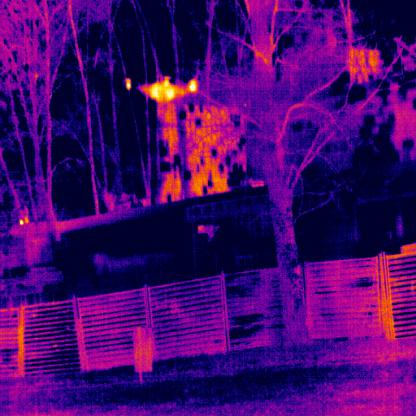drone: (125, 74, 197, 105)
